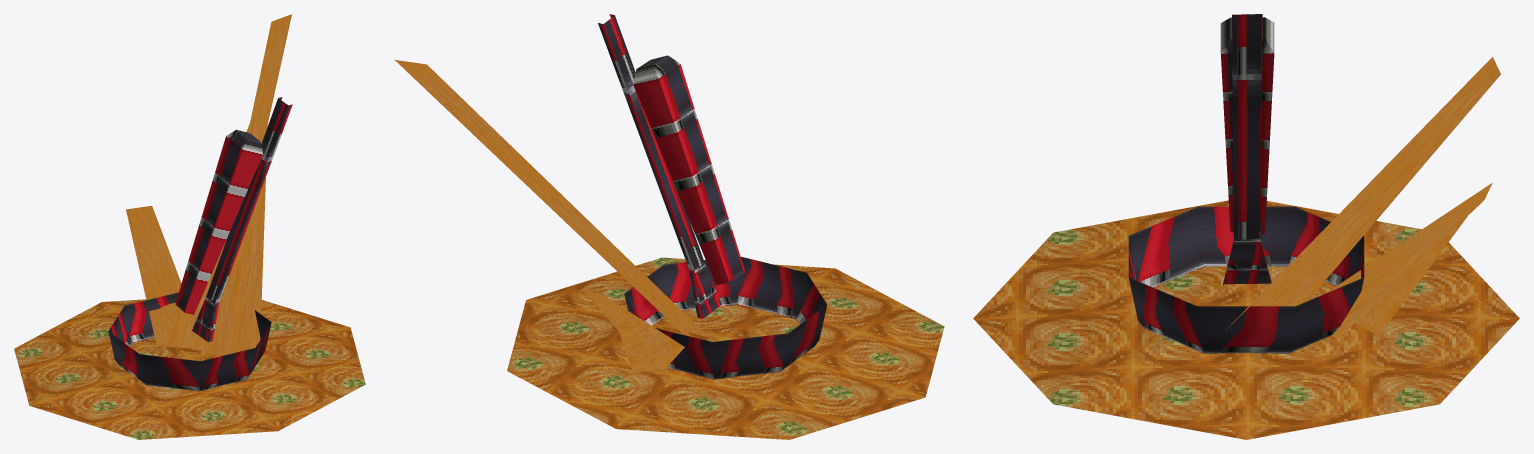
File: dissha.gltf
The picture shows the model from 3 angles, left to right: view 1: azimuth 30°, elevation 25°; view 2: azimuth 150°, elevation 25°; view 3: azimuth 270°, elevation 25°; orthographic projection. The views are drawn at different scales.
Parts seen in each view (by area): view 1: dissha; view 2: dissha; view 3: dissha.
Part boxes in pixels (<box>): dissha: <box>14,14,365,439</box>; dissha: <box>395,14,944,439</box>; dissha: <box>973,14,1519,439</box>.
Bounding box in the file's own units: 0.7393 × 0.5859 × 0.6548.
Materials: 3 (3 with a texture image).
